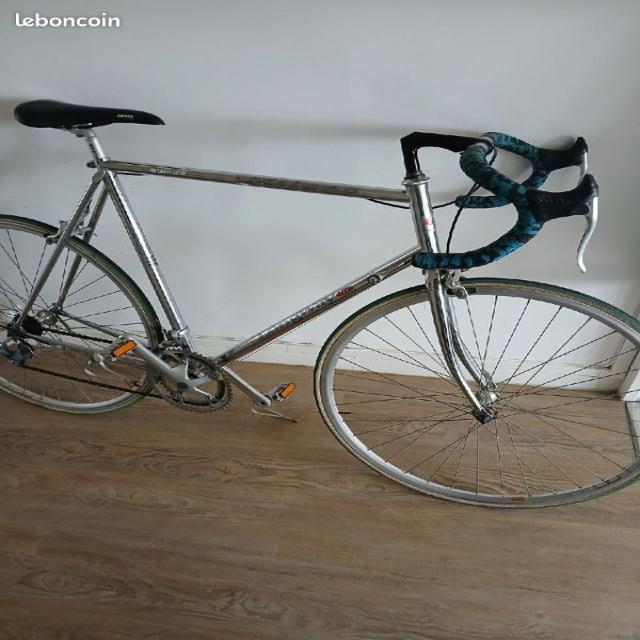Bike: (0, 99, 640, 509)
